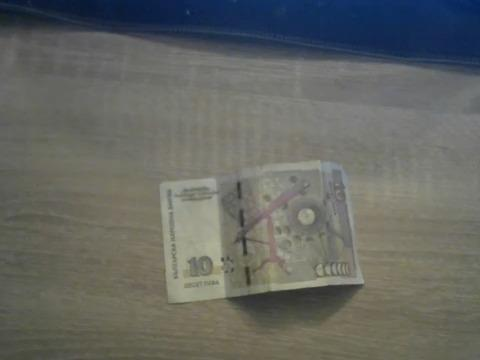10leva: (158, 161, 363, 304)
